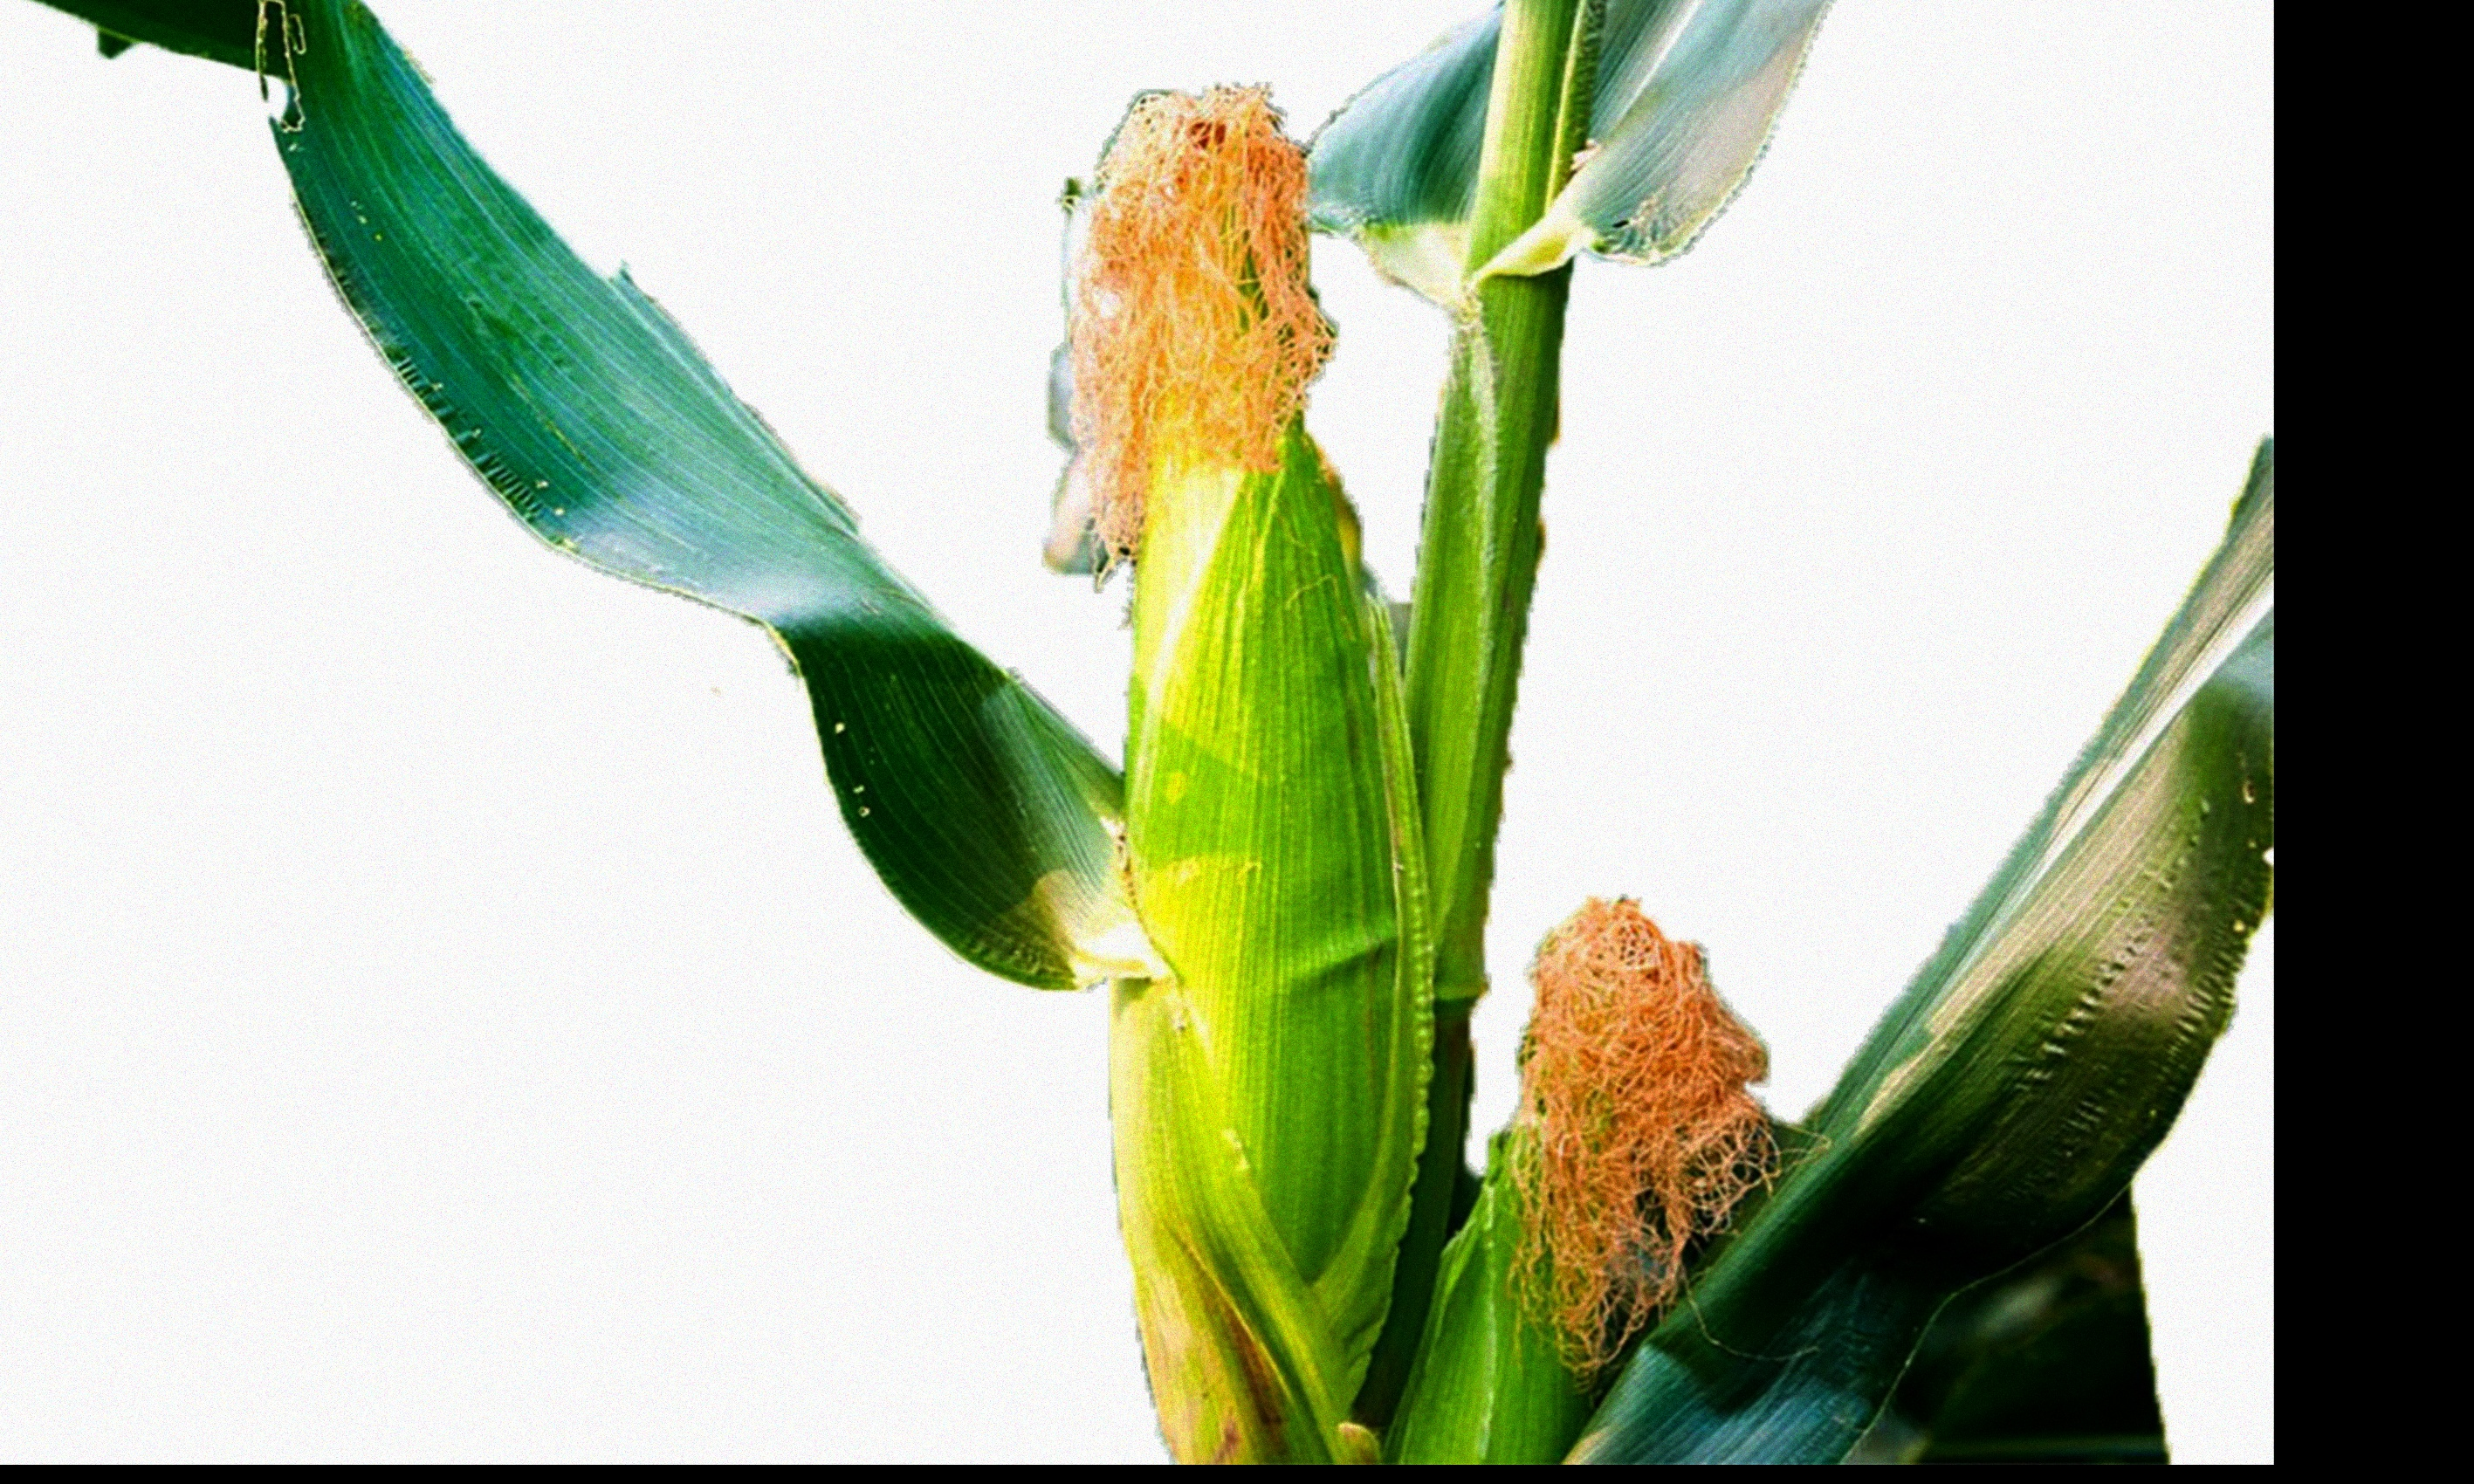corn_plant: (952, 53, 1422, 1431)
